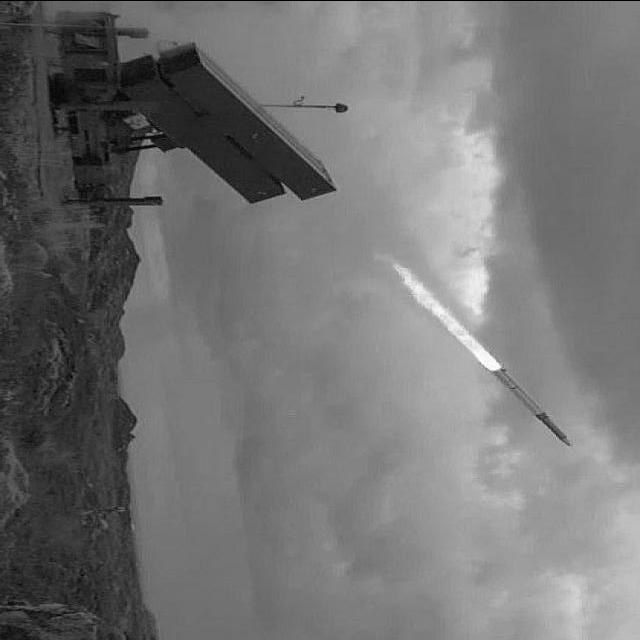missile: (485, 362, 579, 450)
